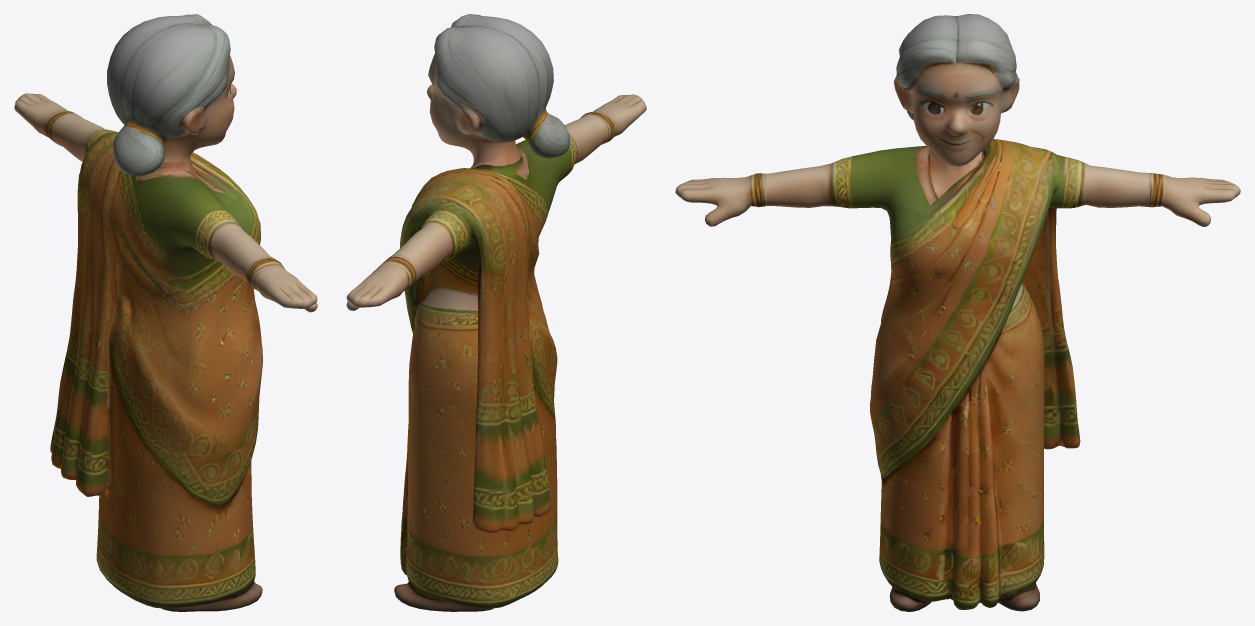
Rendered from tripo_convert_569d4cd7-ad03-4b97-a9d5-4c4f5d8d2817.fbx.
The picture shows the model from 3 angles, left to right: view 1: azimuth 30°, elevation 25°; view 2: azimuth 150°, elevation 25°; view 3: azimuth 270°, elevation 25°; orthographic projection.
Visible parts, largest first — view 1: tripo_node_569d4cd7; view 2: tripo_node_569d4cd7; view 3: tripo_node_569d4cd7.
Boxes of the visible parts, x1,y1,x2,y2 form: tripo_node_569d4cd7: (14, 14, 317, 611); tripo_node_569d4cd7: (346, 14, 646, 611); tripo_node_569d4cd7: (675, 14, 1240, 611).
Size of the model in its own units: 0.2658 by 0.9486 by 0.861.
Materials: 1 (1 with a texture image).
